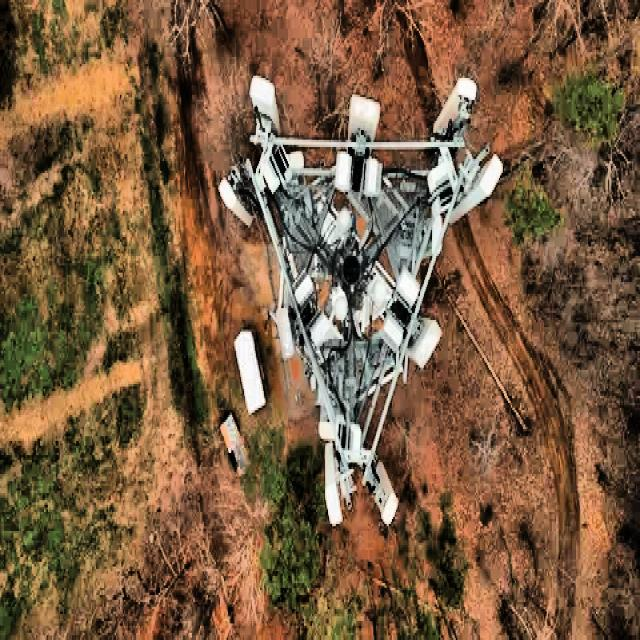antenna: (449, 154, 502, 222), (433, 77, 476, 141), (368, 461, 398, 524), (406, 317, 441, 368), (249, 75, 279, 132), (218, 178, 253, 226), (324, 442, 342, 525), (348, 94, 379, 141), (272, 307, 295, 358)
